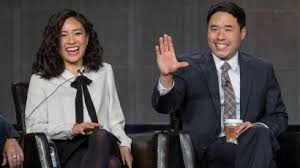asian_male: (203, 3, 251, 63)
